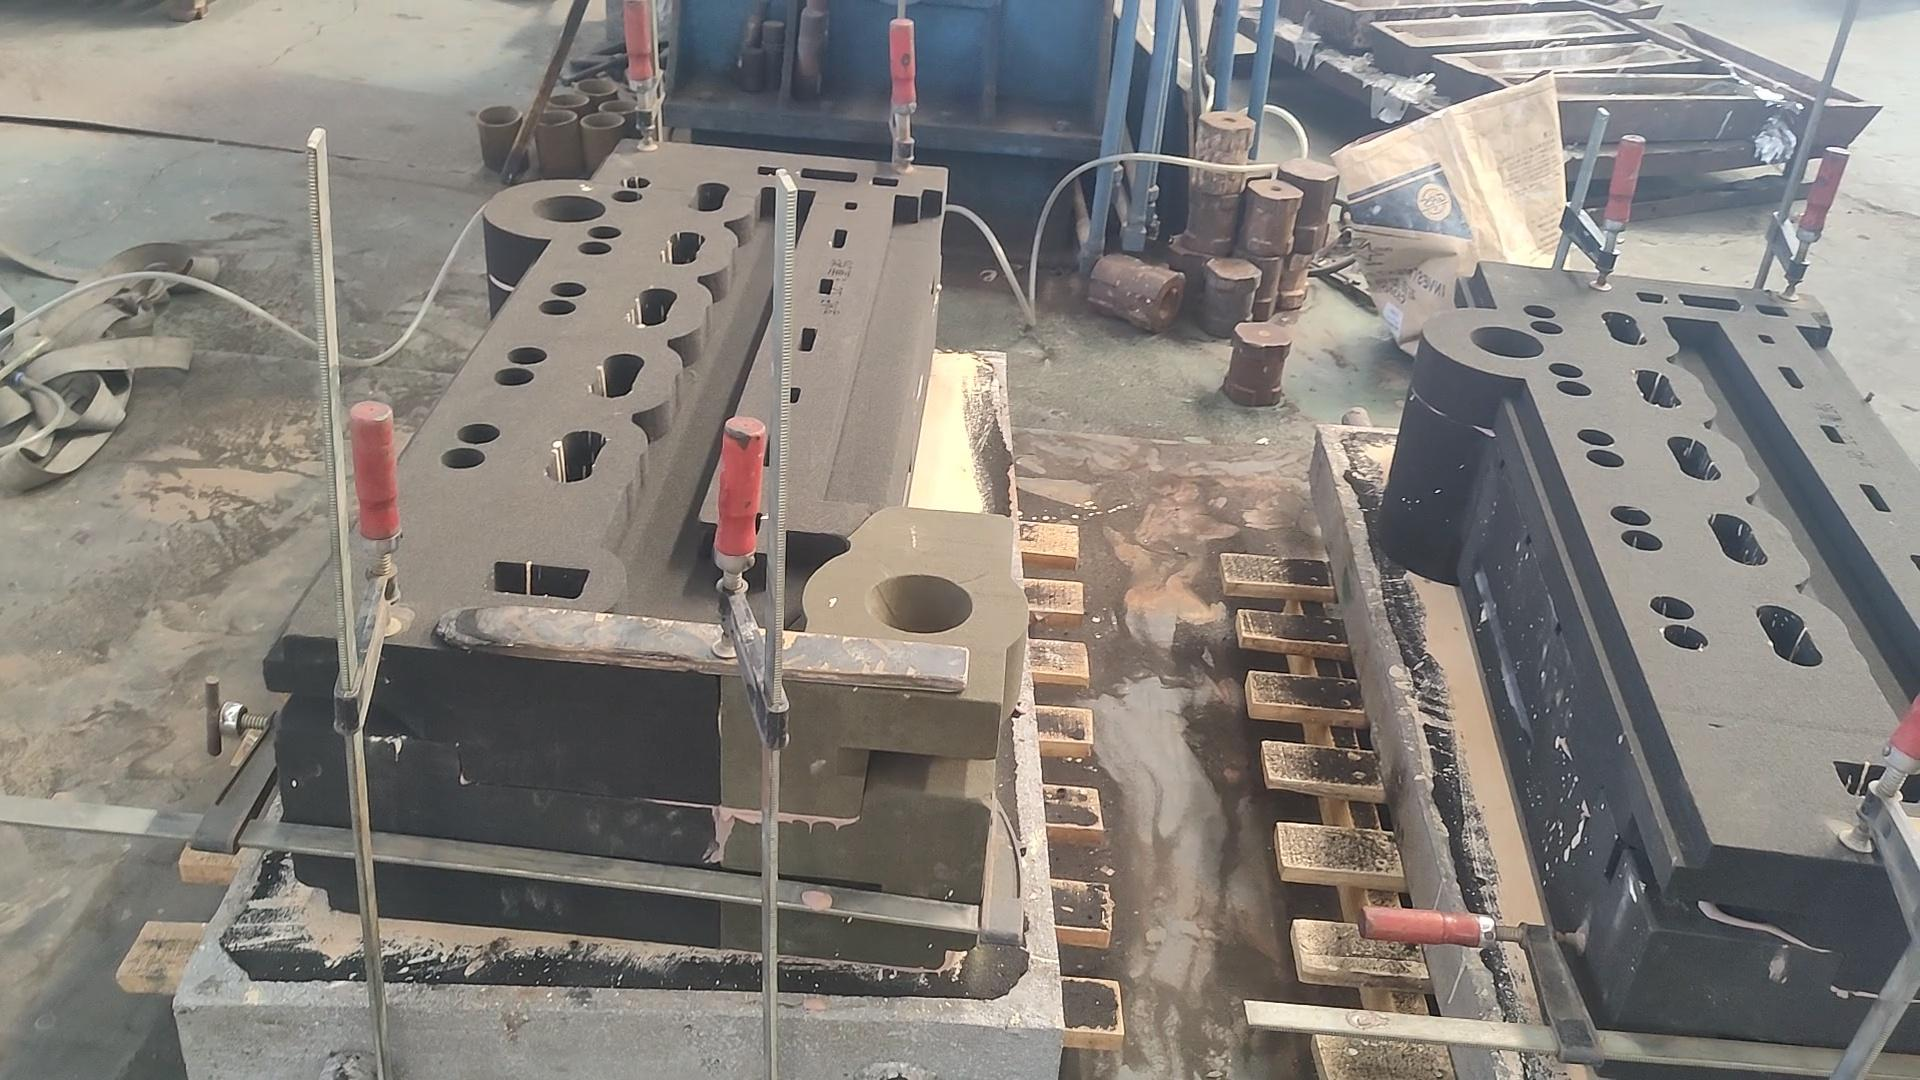pouring hole: (866, 574, 973, 634), (1470, 327, 1544, 357), (531, 195, 607, 223), (477, 105, 524, 127), (576, 76, 618, 96), (531, 109, 578, 127), (546, 94, 589, 108), (599, 99, 640, 113), (580, 113, 625, 127)
